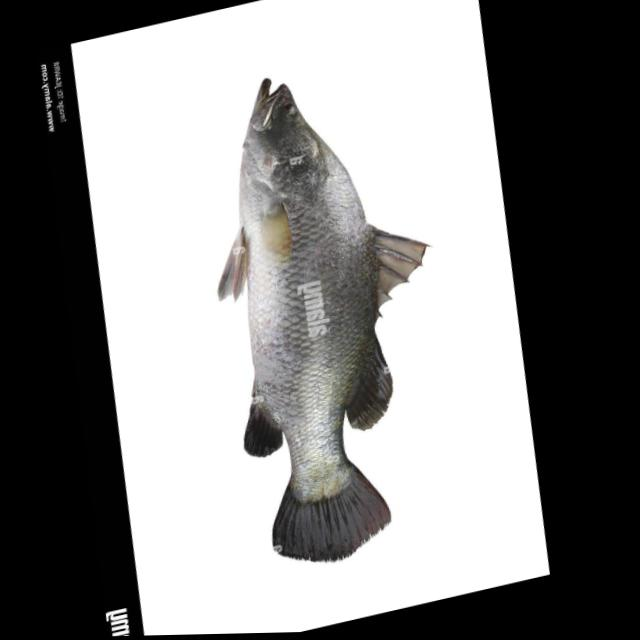Seabass: (148, 41, 506, 583)
